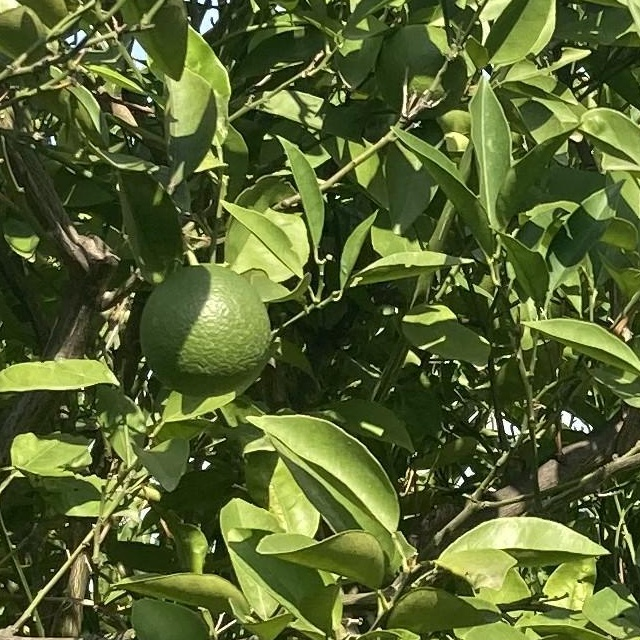orange: (146, 267, 272, 397)
